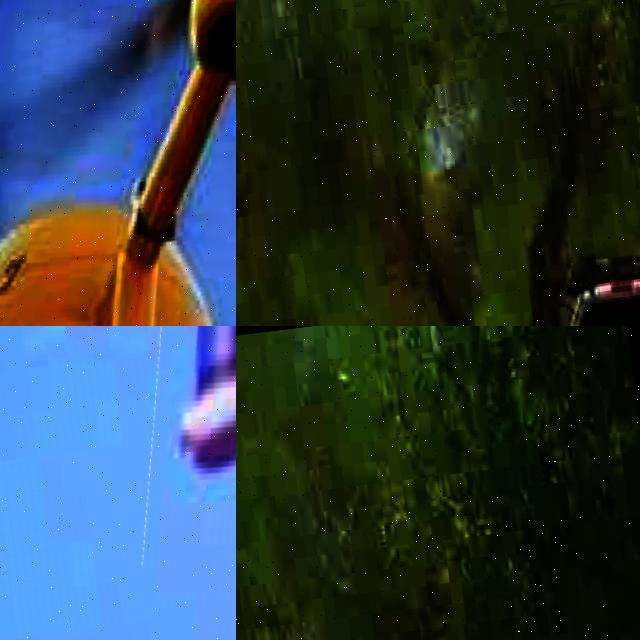drone: (0, 0, 236, 326), (103, 326, 236, 640)
